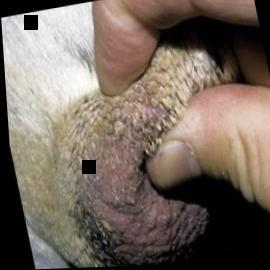keratosis: (2, 24, 270, 270)
